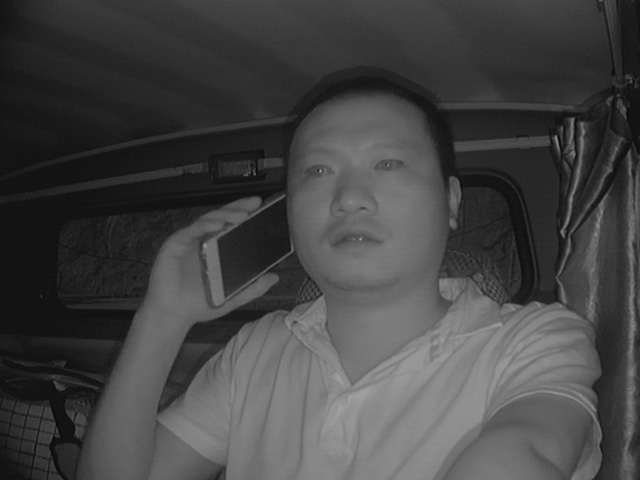hand: (148, 196, 279, 323)
